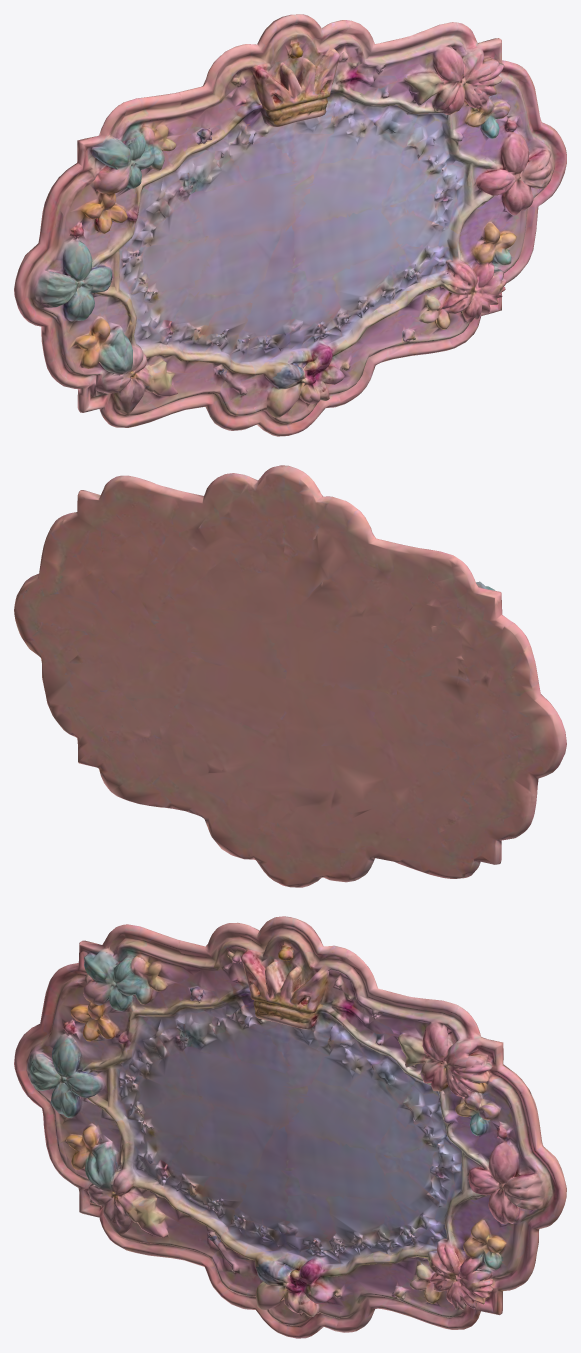
The picture shows the model from 3 angles, top to bottom: view 1: azimuth 30°, elevation 25°; view 2: azimuth 150°, elevation 25°; view 3: azimuth 330°, elevation 25°; orthographic projection.
Size of the model in its own units: 1.9 by 1.38 by 0.1122.
Materials: 1 (1 with a texture image).
